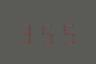five: (38, 20, 56, 44), (57, 20, 75, 44)
three: (18, 20, 36, 44)
